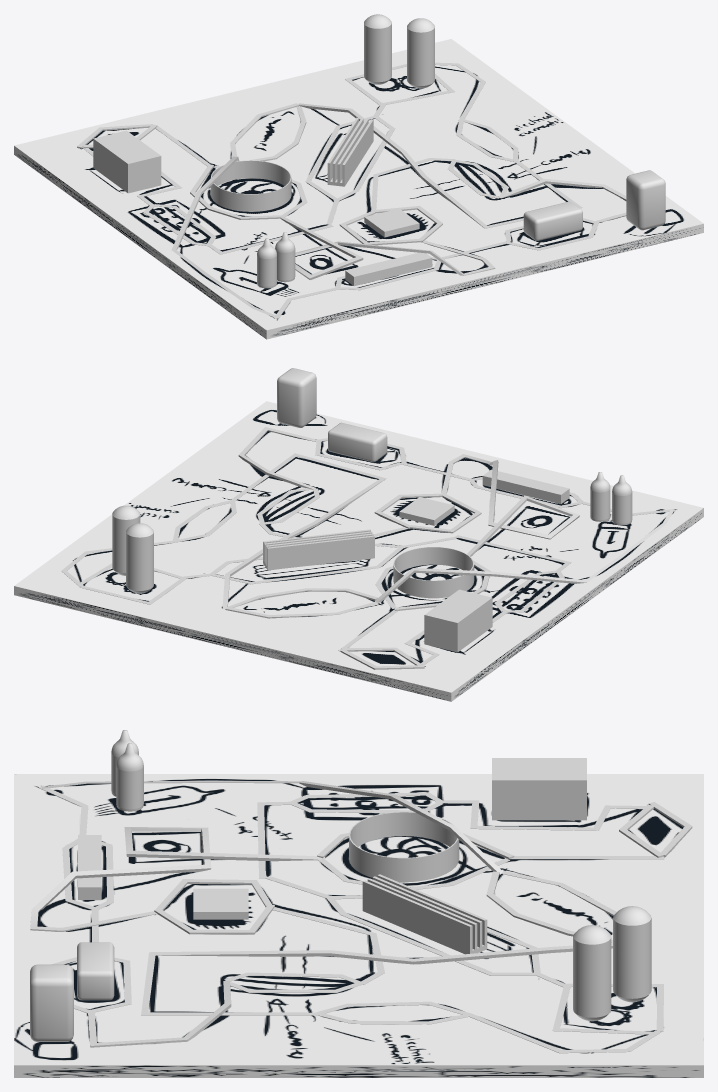
Rendered from SM_LevelMockup.FBX.
3 views of the same model, one above another, from view 1: azimuth 30°, elevation 25°; view 2: azimuth 150°, elevation 25°; view 3: azimuth 270°, elevation 25° (orthographic). The views are drawn at different scales.
Parts seen in each view (by area): view 1: Box002, SM_Something, SM_Fan, SM_ChipX01, SM_Lane09, SM_HeatSink, SM_Condensator02, SM_Condensator01, SM_ChipX02, SM_Lane28, SM_Microchip02, SM_Lane31 (+7 smaller); view 2: Box002, SM_HeatSink, SM_Something, SM_Fan, SM_ChipX01, SM_Lane09, SM_Condensator02, SM_ChipX02, SM_Lane28, SM_Lane31, SM_Microchip02, SM_Condensator01 (+8 smaller); view 3: Box002, SM_Something, SM_HeatSink, SM_Fan, SM_Lane09, SM_Lane28, SM_Condensator02, SM_Condensator01, SM_ChipX01, SM_ChipX02, SM_Lane31, SM_Microchip (+23 smaller).
Boxes of the visible parts, left/top/right/bottom form: Box002: left=14, top=39, right=703, bottom=339; SM_Something: left=93, top=130, right=161, bottom=193; SM_Fan: left=210, top=160, right=291, bottom=211; SM_ChipX01: left=626, top=170, right=665, bottom=230; SM_Lane09: left=280, top=216, right=495, bottom=279; SM_HeatSink: left=327, top=117, right=373, bottom=186; SM_Condensator02: left=364, top=14, right=391, bottom=84; SM_Condensator01: left=407, top=18, right=434, bottom=88; SM_ChipX02: left=523, top=201, right=582, bottom=240; SM_Lane28: left=298, top=103, right=582, bottom=228; SM_Microchip02: left=345, top=252, right=432, bottom=286; SM_Lane31: left=171, top=156, right=278, bottom=317; Box002: left=14, top=401, right=703, bottom=701; SM_HeatSink: left=263, top=529, right=374, bottom=570; SM_Something: left=424, top=589, right=492, bottom=652; SM_Fan: left=393, top=547, right=474, bottom=598; SM_ChipX01: left=277, top=368, right=316, bottom=427; SM_Lane09: left=441, top=454, right=579, bottom=556; SM_Condensator02: left=126, top=523, right=153, bottom=593; SM_ChipX02: left=328, top=422, right=387, bottom=462; SM_Lane28: left=222, top=453, right=386, bottom=609; SM_Lane31: left=375, top=509, right=673, bottom=602; SM_Microchip02: left=482, top=469, right=569, bottom=503; SM_Condensator01: left=112, top=505, right=140, bottom=575; Box002: left=14, top=774, right=703, bottom=1077; SM_Something: left=492, top=758, right=586, bottom=820; SM_HeatSink: left=362, top=874, right=487, bottom=954; SM_Fan: left=349, top=811, right=459, bottom=881; SM_Lane09: left=30, top=827, right=324, bottom=931; SM_Lane28: left=141, top=943, right=612, bottom=1015; SM_Condensator02: left=613, top=906, right=651, bottom=1002; SM_Condensator01: left=573, top=925, right=611, bottom=1021; SM_ChipX01: left=30, top=964, right=73, bottom=1041; SM_ChipX02: left=77, top=942, right=114, bottom=1000; SM_Lane31: left=42, top=780, right=503, bottom=874; SM_Microchip: left=193, top=888, right=248, bottom=919.
Size of the model in its own units: 100 by 16.52 by 100.
1 material, 1 textured.
